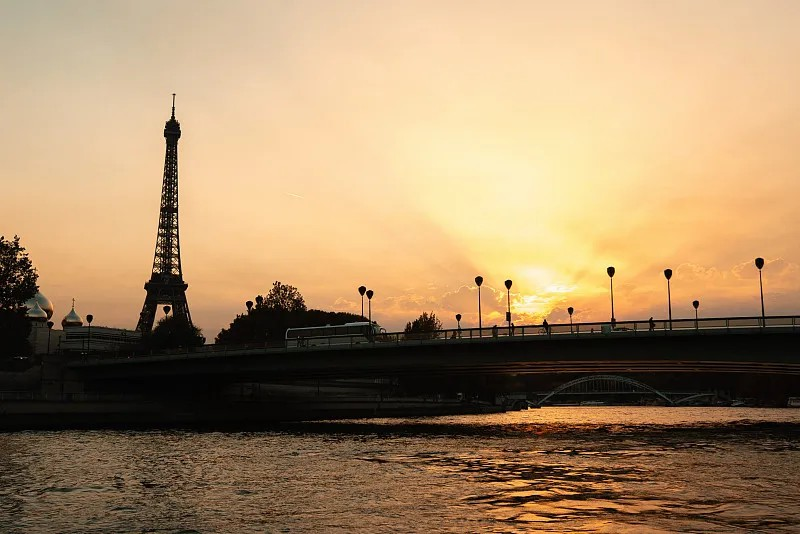Eiffel: (133, 92, 193, 338)
